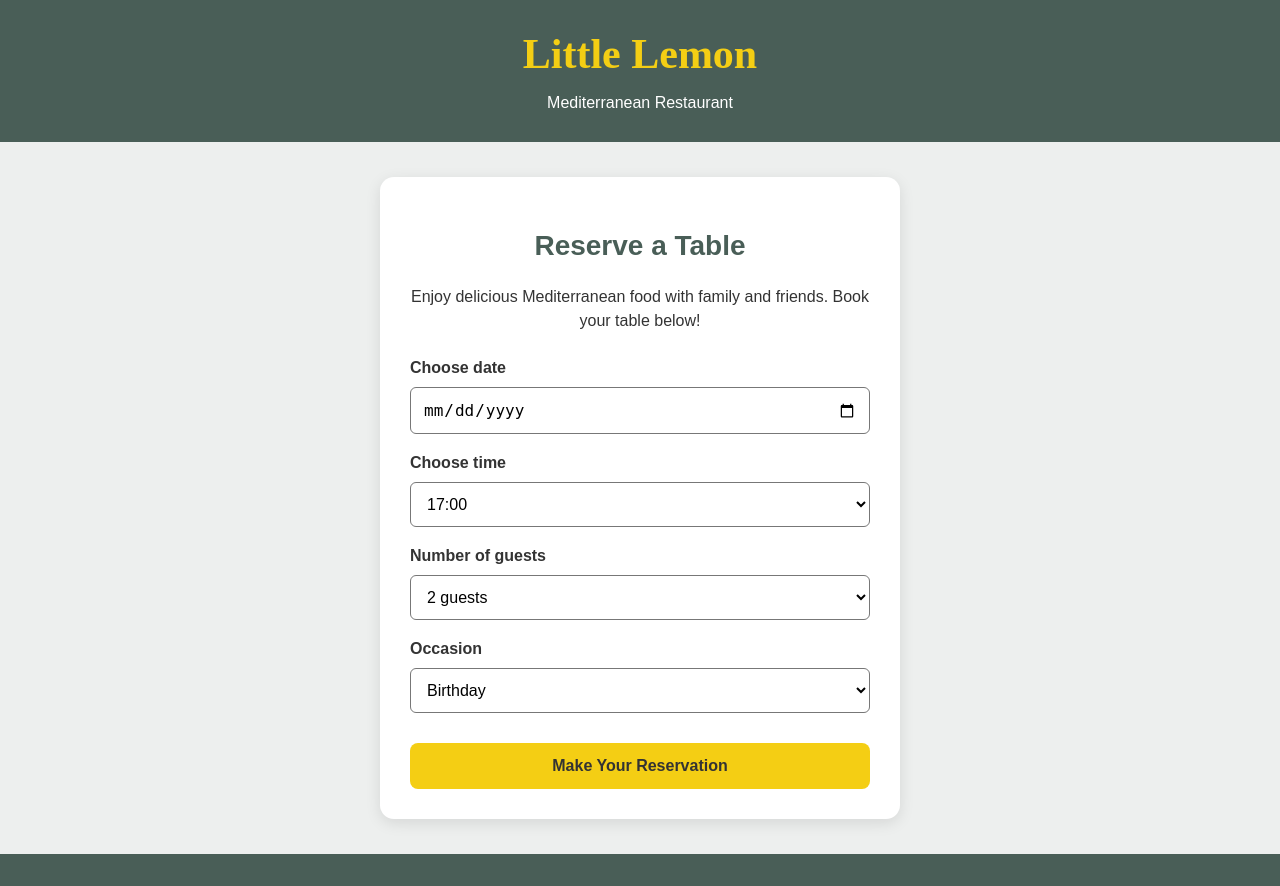
Test: submits a valid reservation
Step 1. Type "2099-12-25" into the date field labelled "Choose date" → x=640, y=411, box [410,388,870,434]
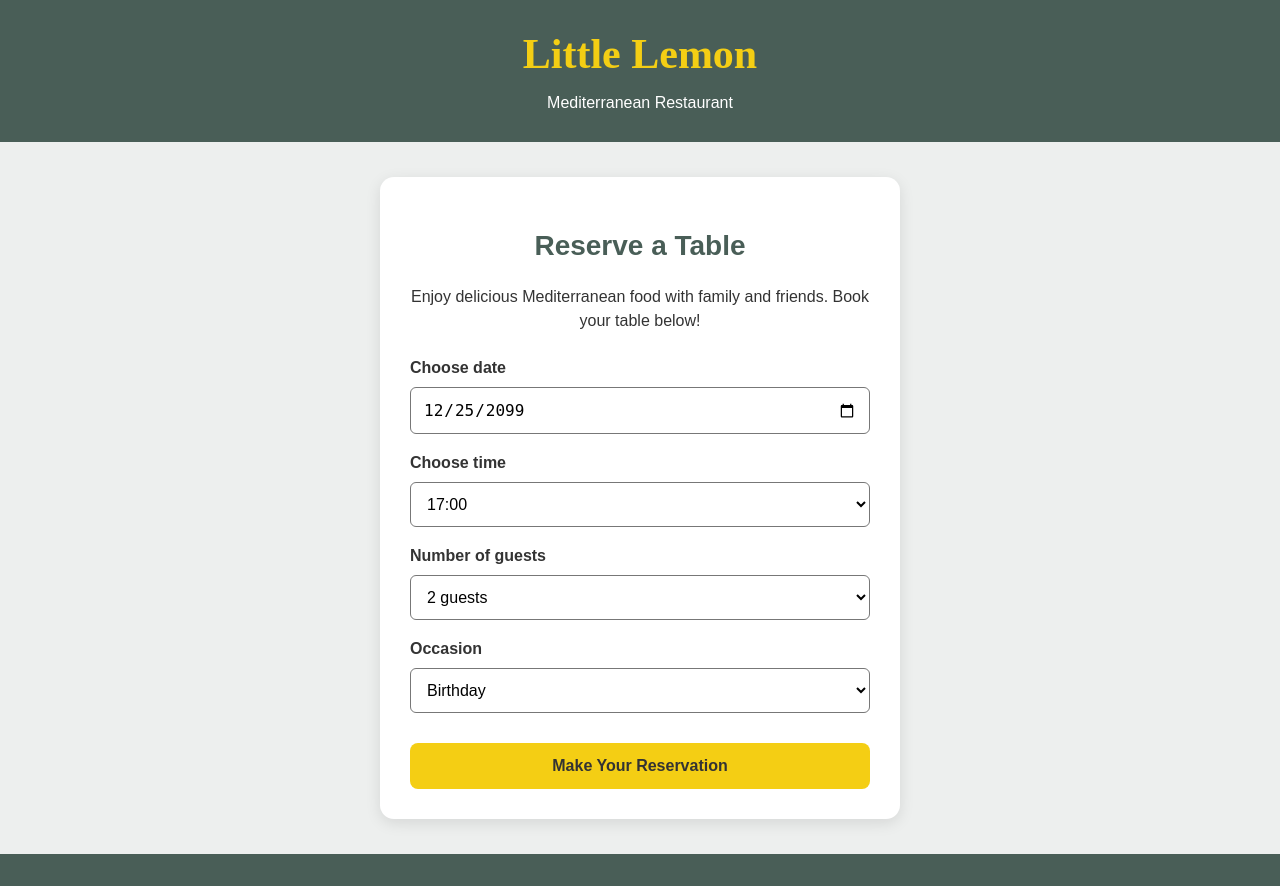
Step 2. Click the button "Make Your Reservation" → x=640, y=766, box [410,744,870,790]
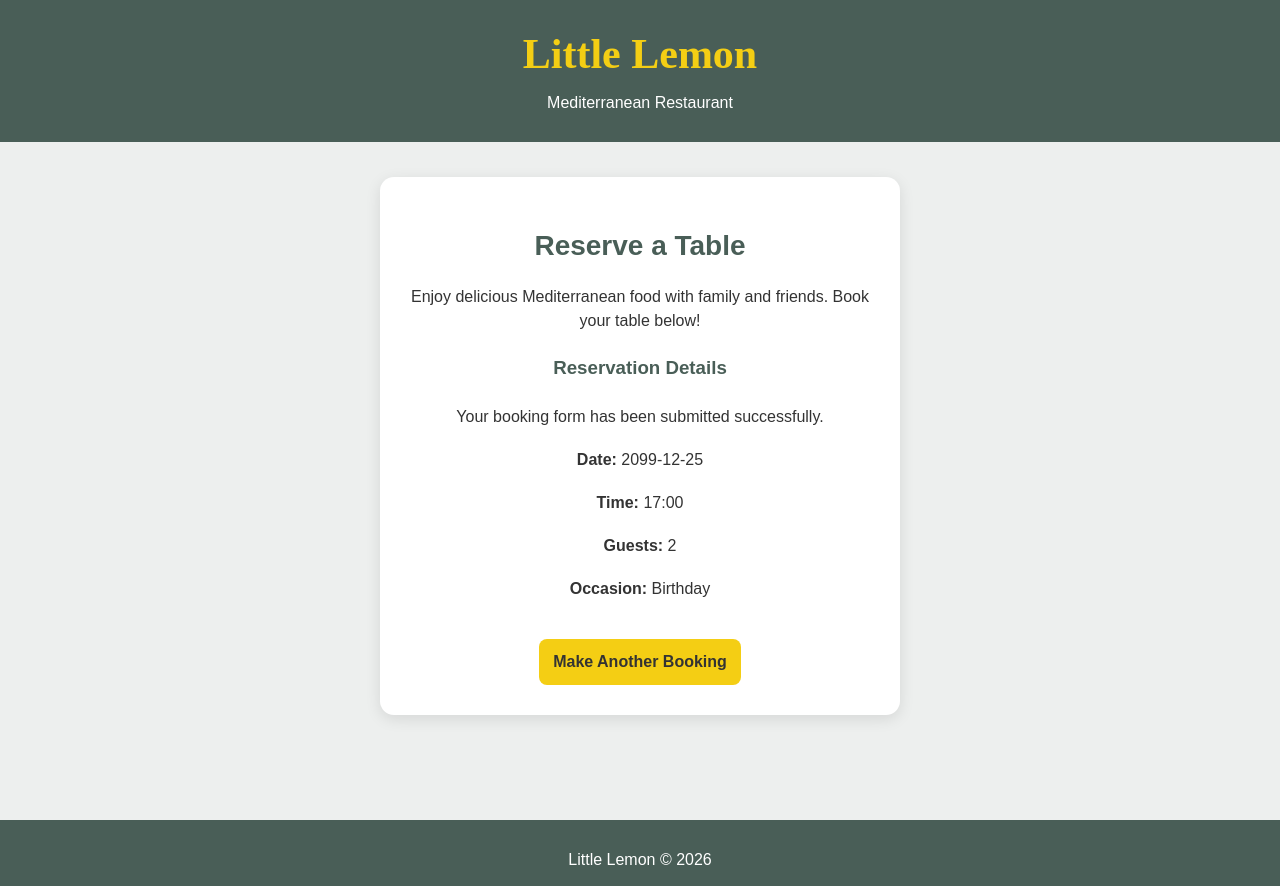
Expected: the text "Your booking form has been submitted successfully." is shown, [456,408,824,425]
Expected: the text "Date: 2099-12-25" is shown, [577,451,703,468]
